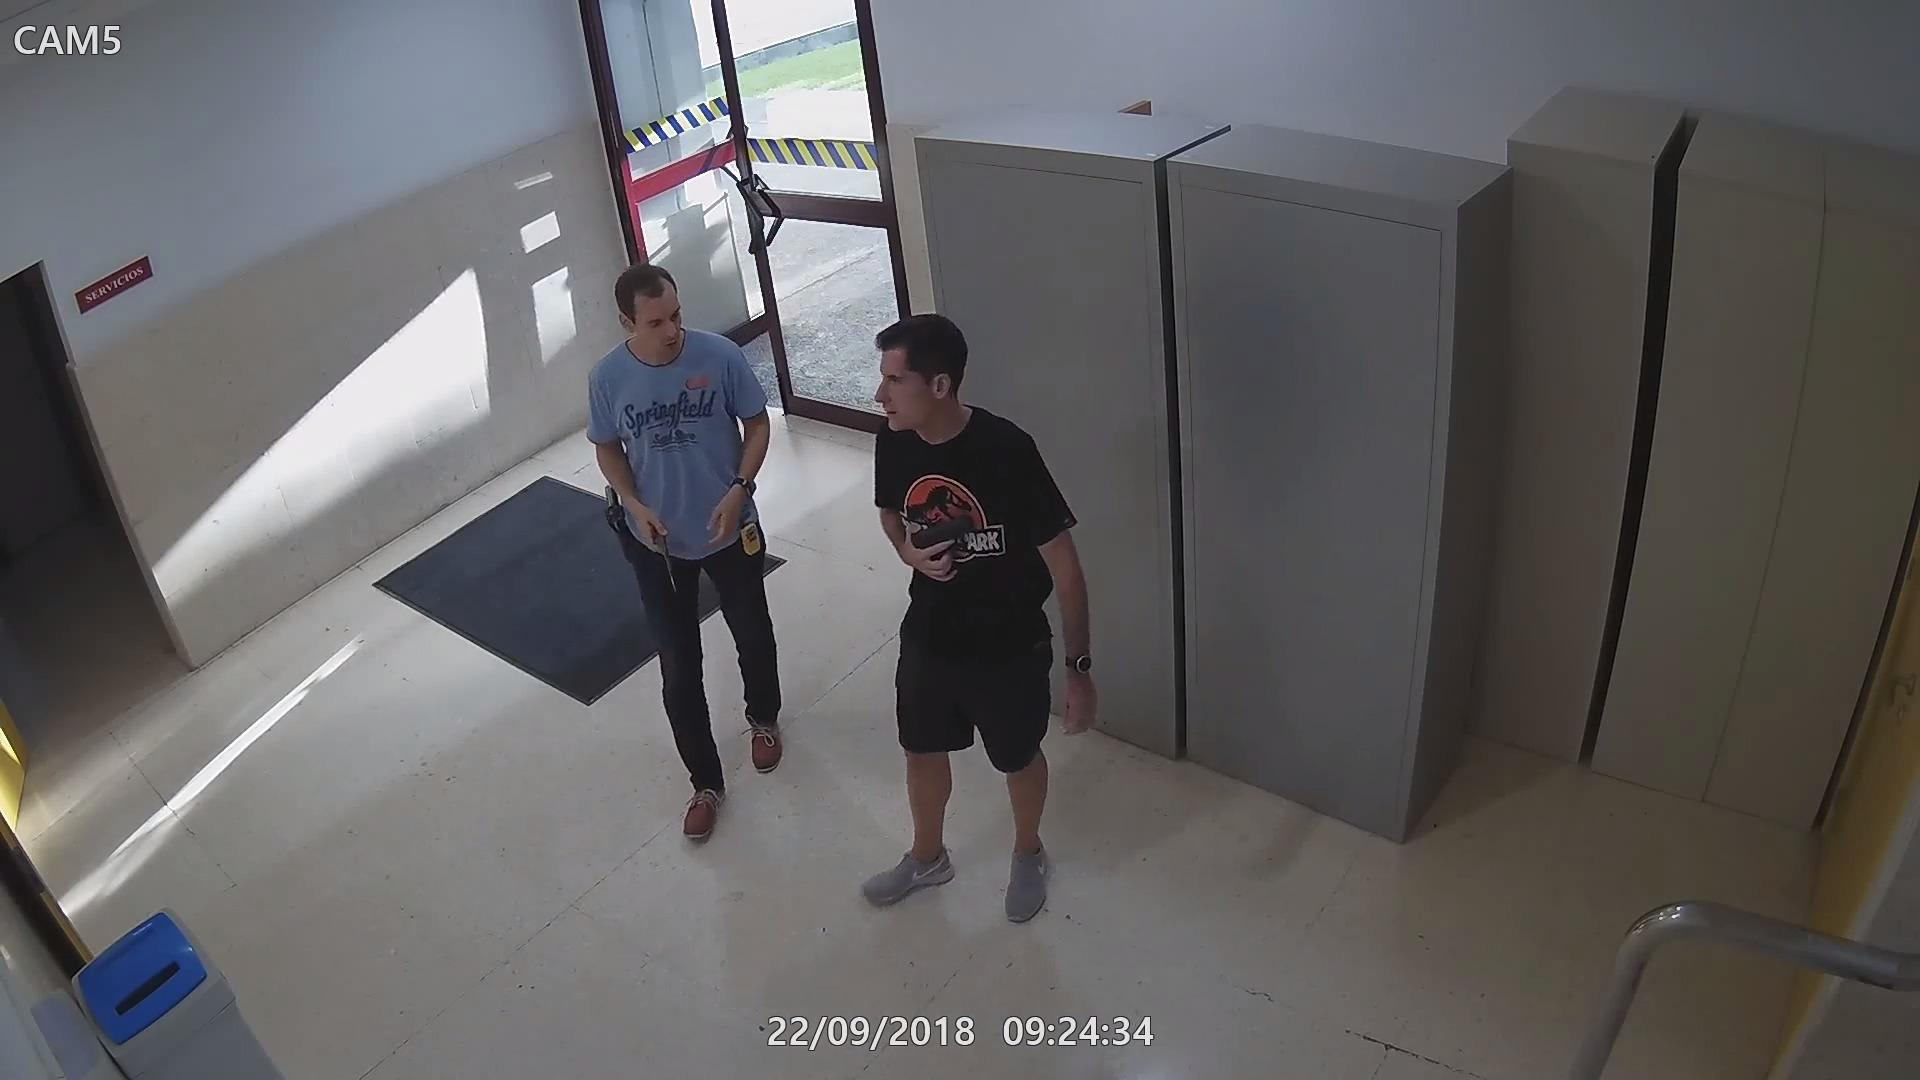Handgun: (895, 514, 973, 580), (589, 475, 626, 554)
